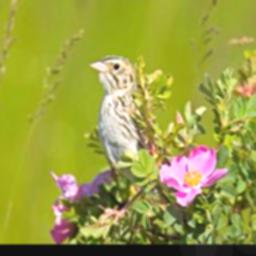Sparrow: (85, 49, 159, 192)
